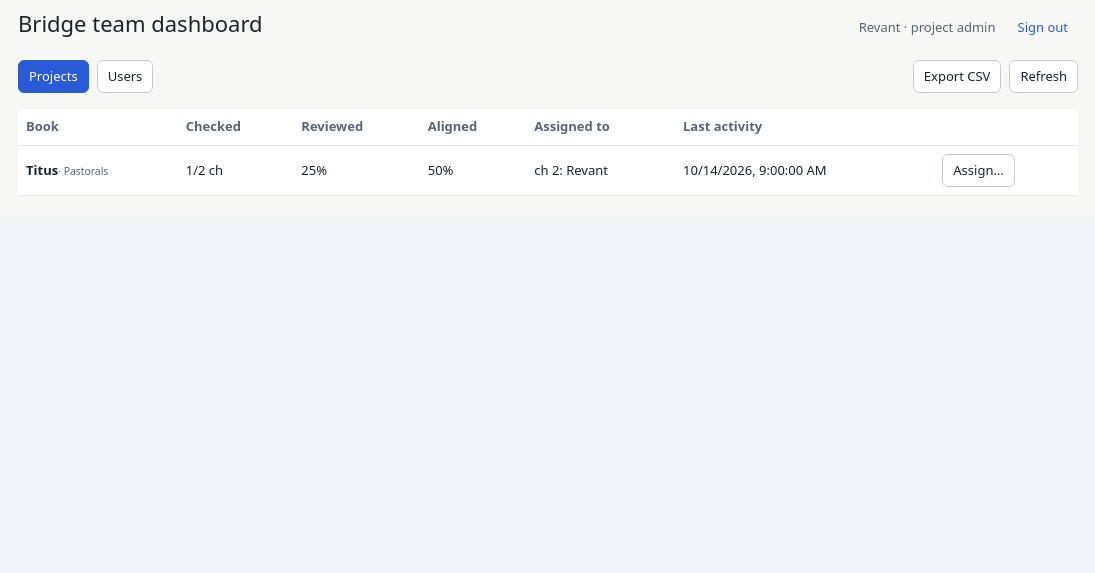
Test: DashboardApp (#81) › lets a project admin assign a chapter and invite a user
Click the button "Assign…": {"x": 978, "y": 170} [942,154,1015,187]
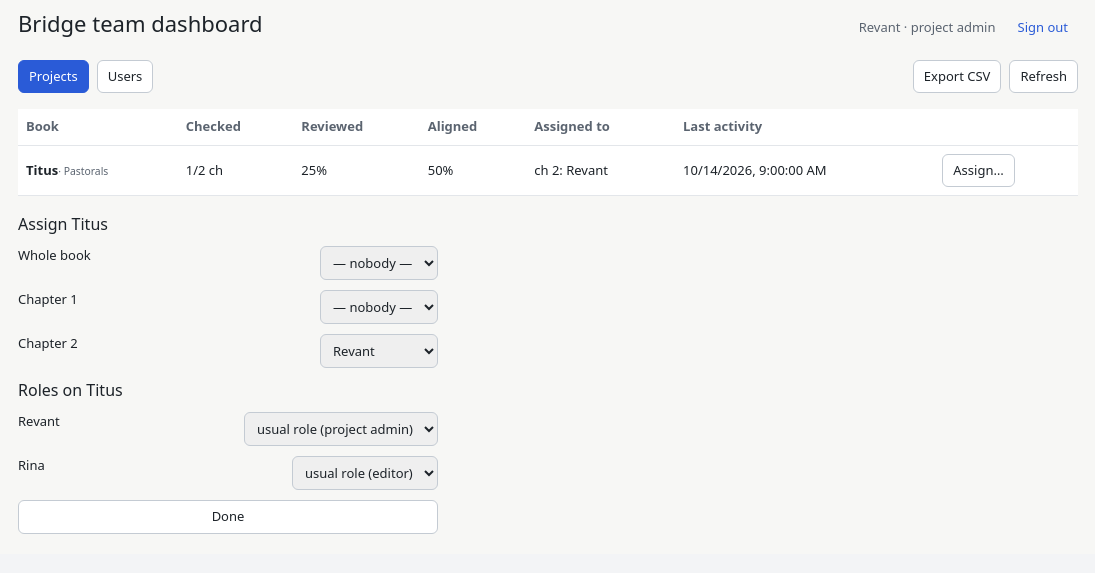
Select "Rina" in the dropdown named "Assignee for Chapter 1": {"x": 379, "y": 307} [320,290,438,324]
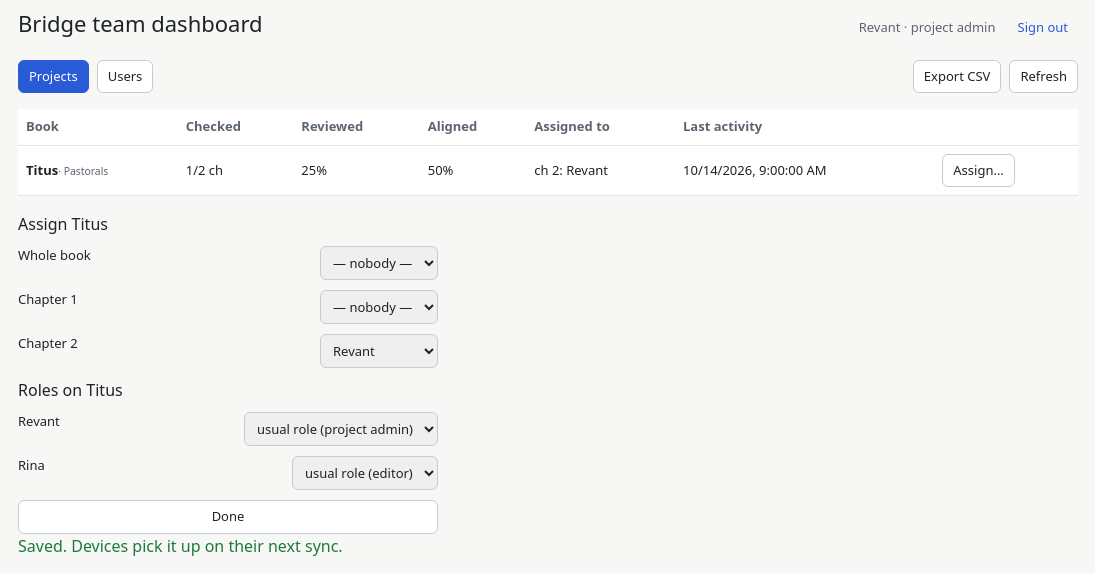
expect the text "Saved. Devices pick it up on their next sync." is shown: met, box [18,534,343,556]
Click the button "Users": {"x": 125, "y": 76} [97,60,153,93]
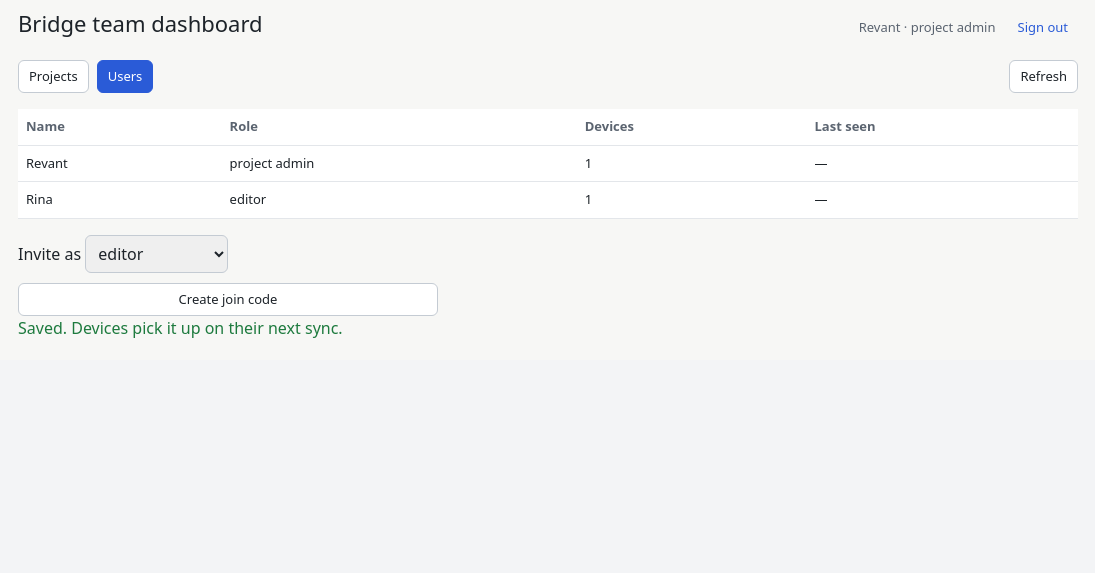
expect the text "Rina" is shown: met, box [18,182,222,218]
Select "reporter" in the dropdown named "Role for the invitation": {"x": 157, "y": 254} [85,234,228,272]
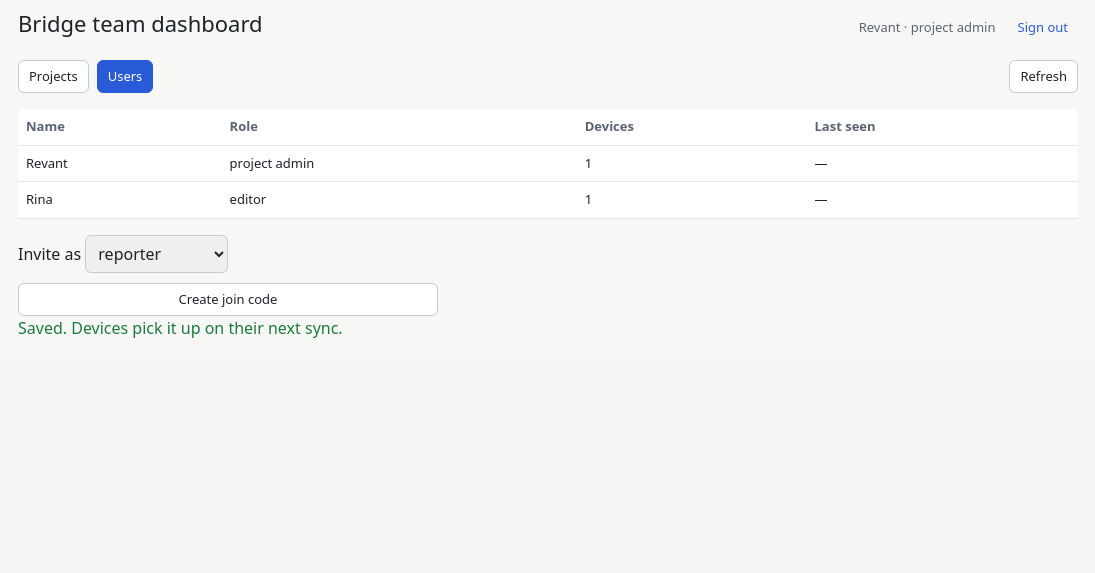
Click the button "Create join code": {"x": 228, "y": 299} [18,282,438,316]
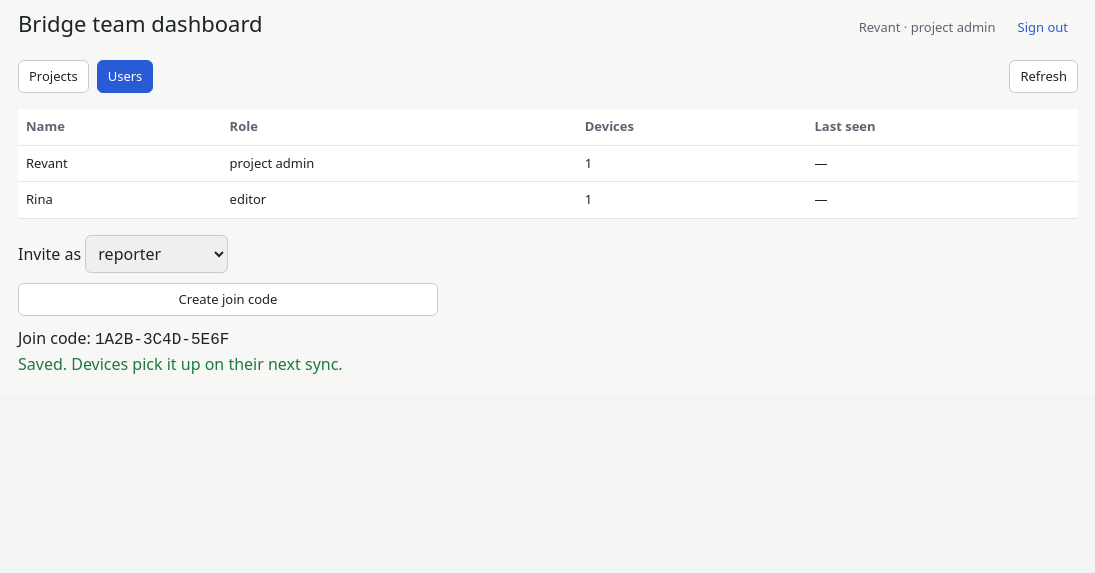
expect the text "1A2B-3C4D-5E6F" is shown: met, box [95,331,229,349]
